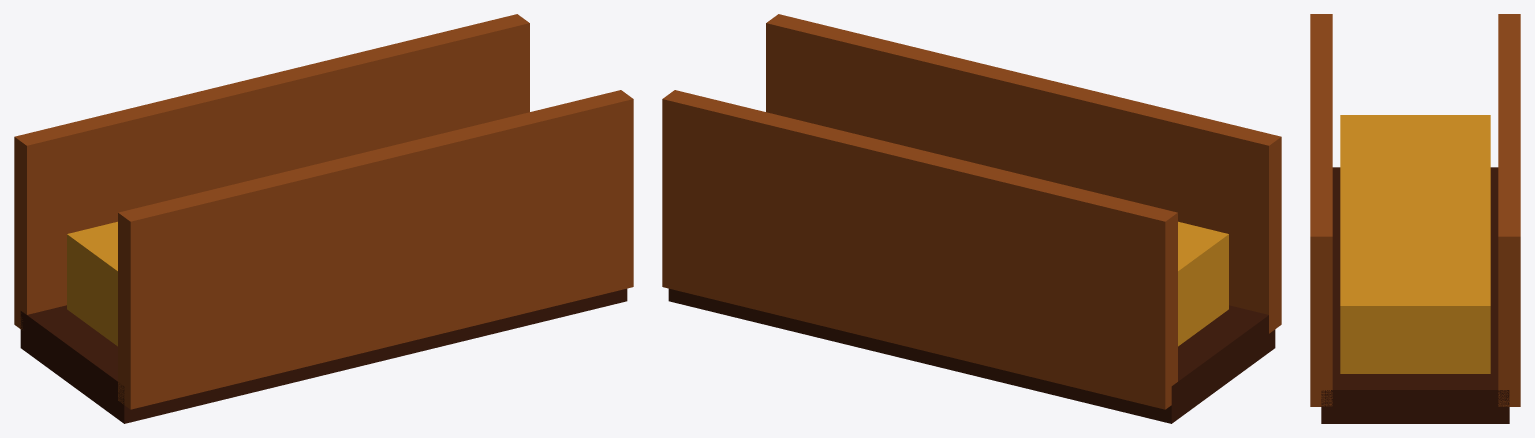
File: hay_feeder.obj
3 renders of one model, left to right at view 1: azimuth 30°, elevation 25°; view 2: azimuth 150°, elevation 25°; view 3: azimuth 270°, elevation 25°, orthographic. The views are drawn at different scales.
Parts seen in each view (by area): view 1: hay_feeder; view 2: hay_feeder; view 3: hay_feeder.
Part boxes in pixels (x1,y1,x2,y2): hay_feeder: [14, 14, 633, 423]; hay_feeder: [662, 14, 1281, 423]; hay_feeder: [1310, 14, 1520, 423].
Bounding box in the file's own units: 1.4 × 0.55 × 0.56.
